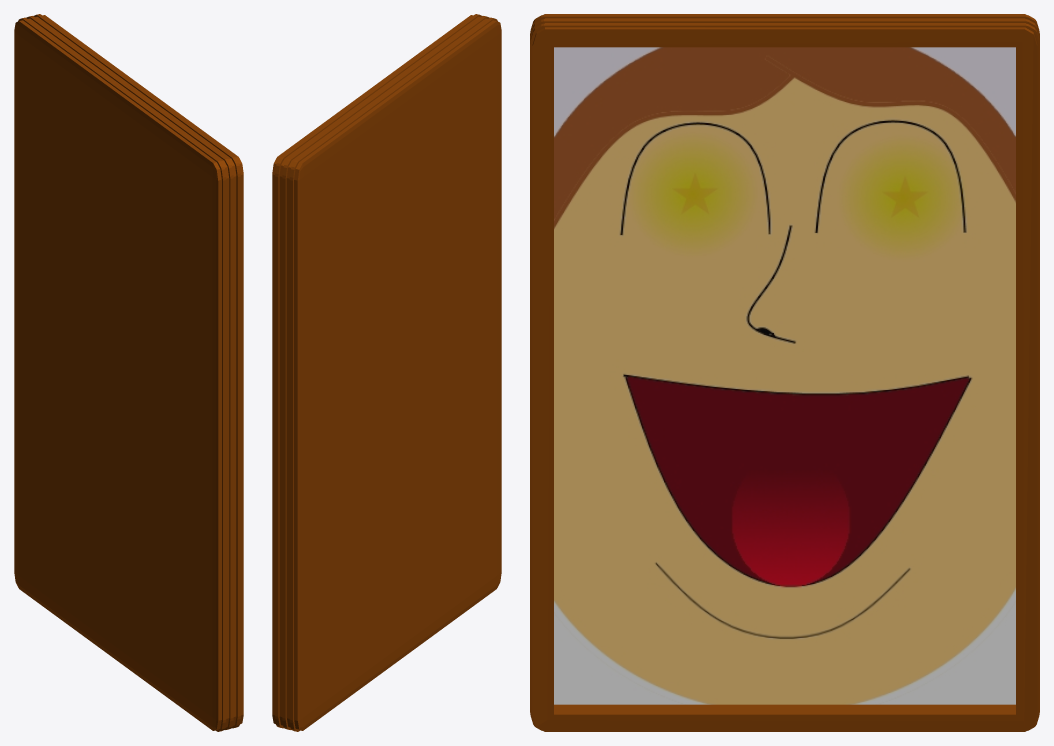
Rendered from Tableau2.fbx.
3 renders of one model, left to right at view 1: azimuth 30°, elevation 25°; view 2: azimuth 150°, elevation 25°; view 3: azimuth 270°, elevation 25°, orthographic. The views are drawn at different scales.
Parts seen in each view (by area): view 1: Cube; view 2: Cube; view 3: Cube.
Part boxes in pixels (x1,y1,x2,y2): Cube: (14,14,243,731); Cube: (272,14,501,731); Cube: (530,14,1039,731).
Size of the model in its own units: 16.78 by 339 by 222.
